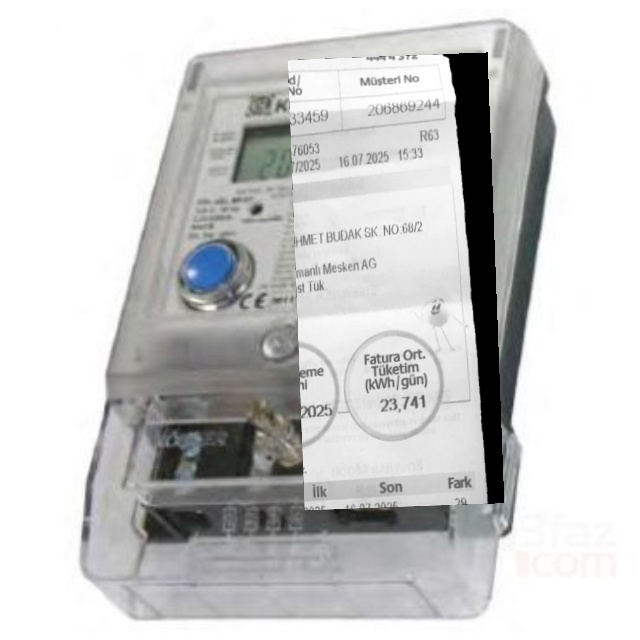electricity-bill: (288, 52, 504, 511)
